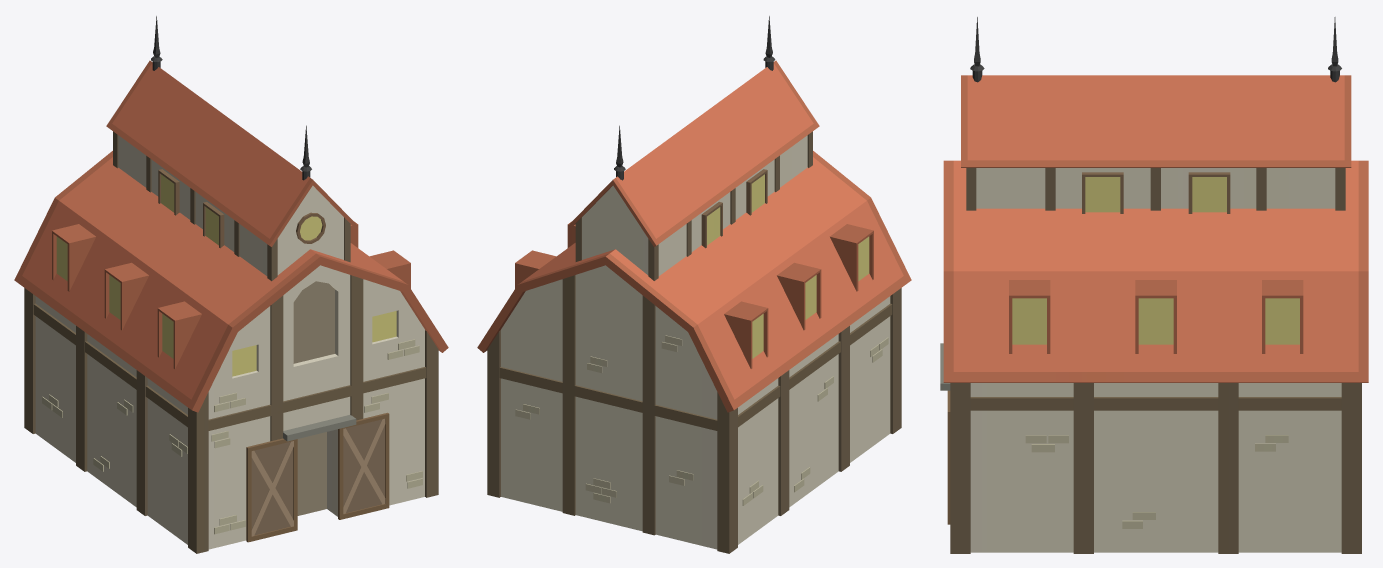
File: House_8.fbx
3 views of the same model, side by side, from view 1: azimuth 30°, elevation 25°; view 2: azimuth 150°, elevation 25°; view 3: azimuth 270°, elevation 25° (orthographic). The views are drawn at different scales.
Parts seen in each view (by area): view 1: House_8; view 2: House_8; view 3: House_8.
Part boxes in pixels (x1,y1,x2,y2): House_8: [14, 16, 448, 553]; House_8: [477, 16, 911, 553]; House_8: [940, 17, 1368, 553].
Bounding box in the file's own units: 98.08 × 143 × 119.
1 material, 1 textured.
